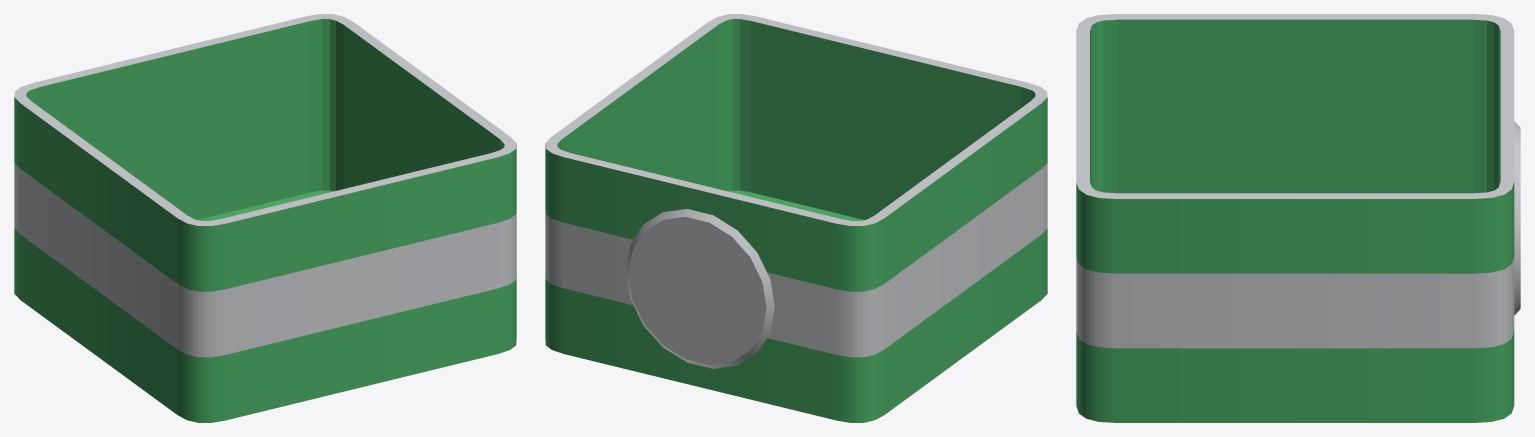
Rendered from Caja-Dados Verde.FBX.
The picture shows the model from 3 angles, left to right: view 1: azimuth 30°, elevation 25°; view 2: azimuth 150°, elevation 25°; view 3: azimuth 270°, elevation 25°; orthographic projection. The views are drawn at different scales.
Visible parts, largest first — view 1: Box004; view 2: Box004; view 3: Box004.
Boxes of the visible parts, x1,y1,x2,y2 form: Box004: (14, 14, 516, 422); Box004: (545, 14, 1047, 422); Box004: (1076, 14, 1520, 422).
Bounding box in the file's own units: 25 × 25.37 × 14.11.
